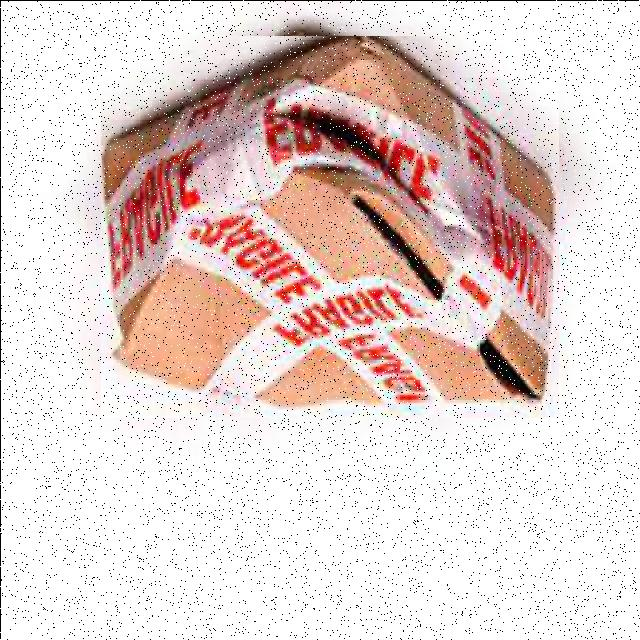defect: (100, 35, 558, 417)
